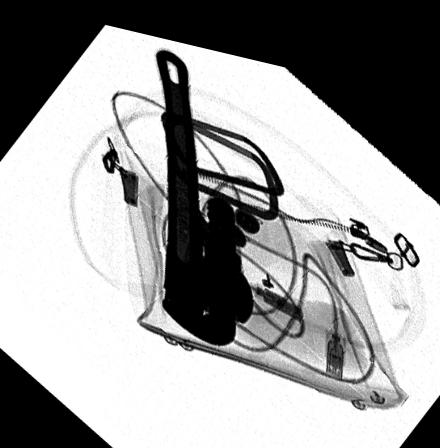Wrench: (155, 39, 253, 334)
